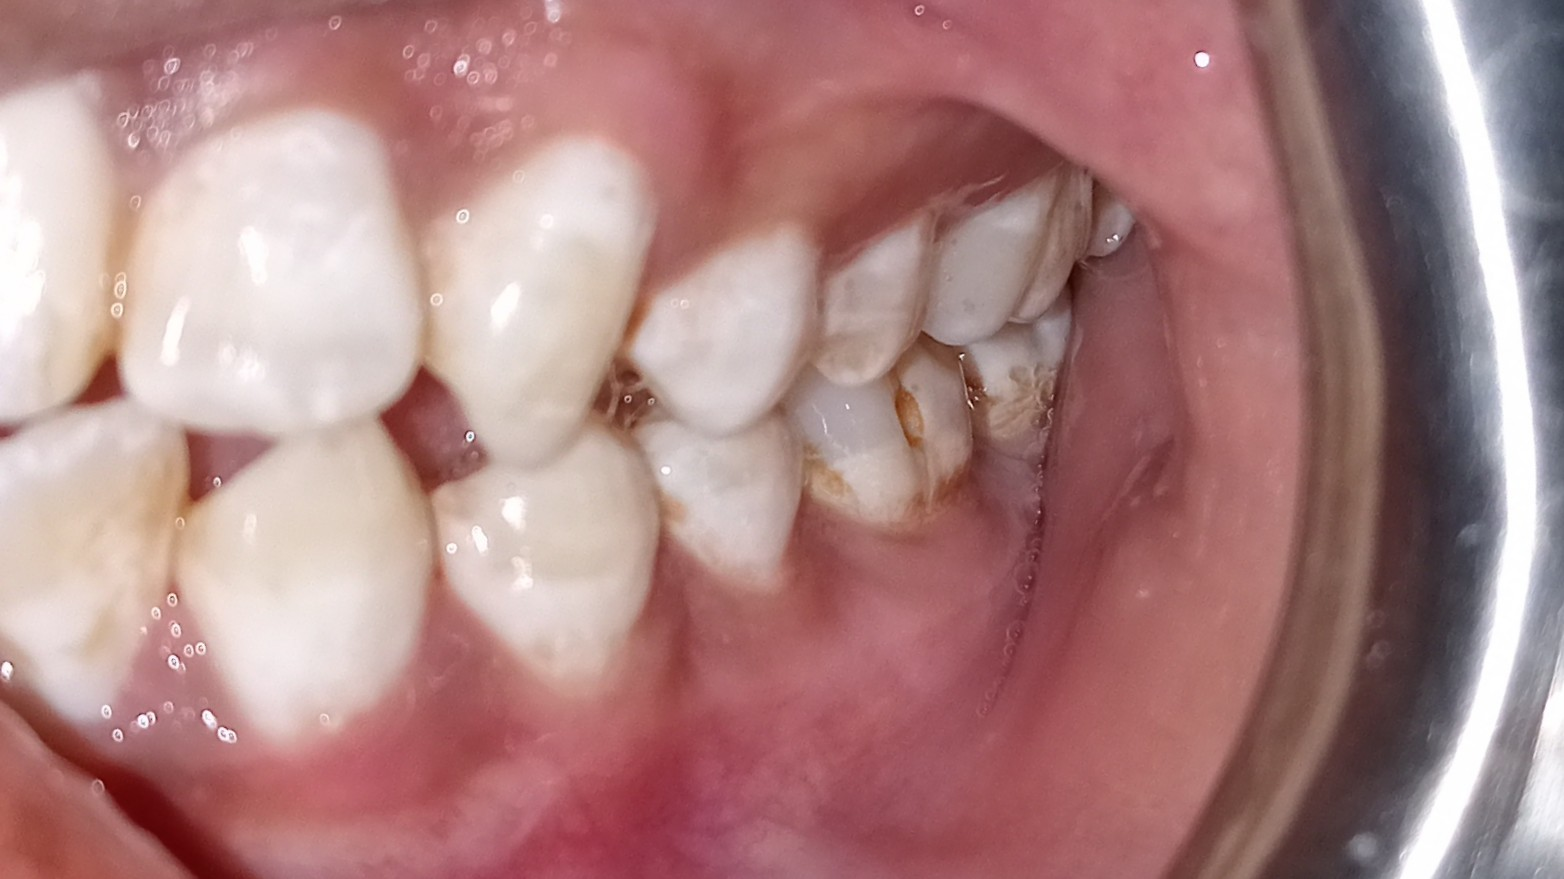D: (761, 346, 1015, 532)
